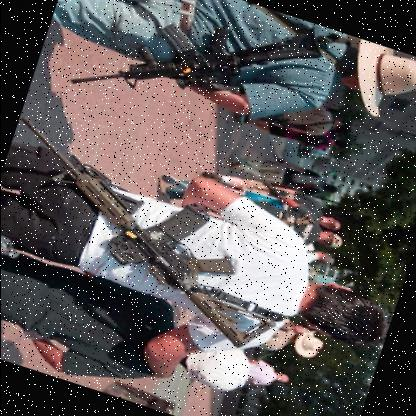rifle: (0, 113, 305, 350), (63, 0, 331, 159)
